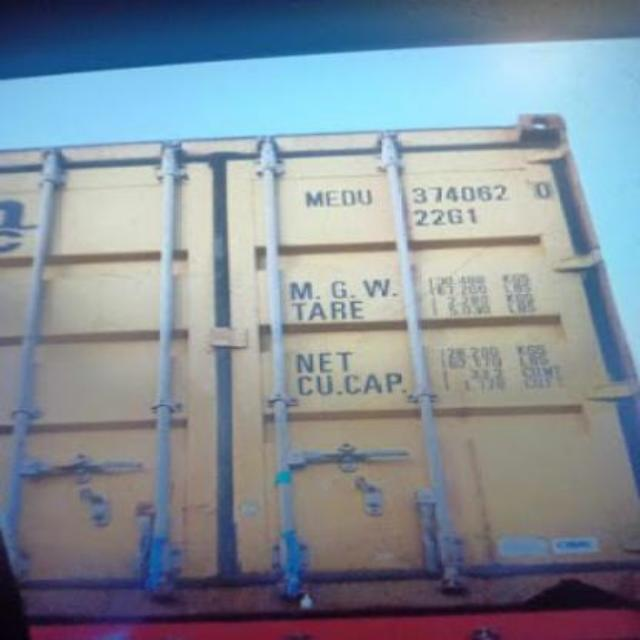0: (532, 175, 560, 201), (461, 180, 474, 203)
2: (492, 180, 508, 204)
3: (406, 182, 426, 205)
4: (444, 182, 460, 204)
6: (476, 177, 492, 206)
7: (428, 182, 446, 204)
D: (338, 182, 356, 214)
E: (322, 186, 340, 210)
M: (300, 184, 322, 210)
U: (356, 186, 372, 204)
